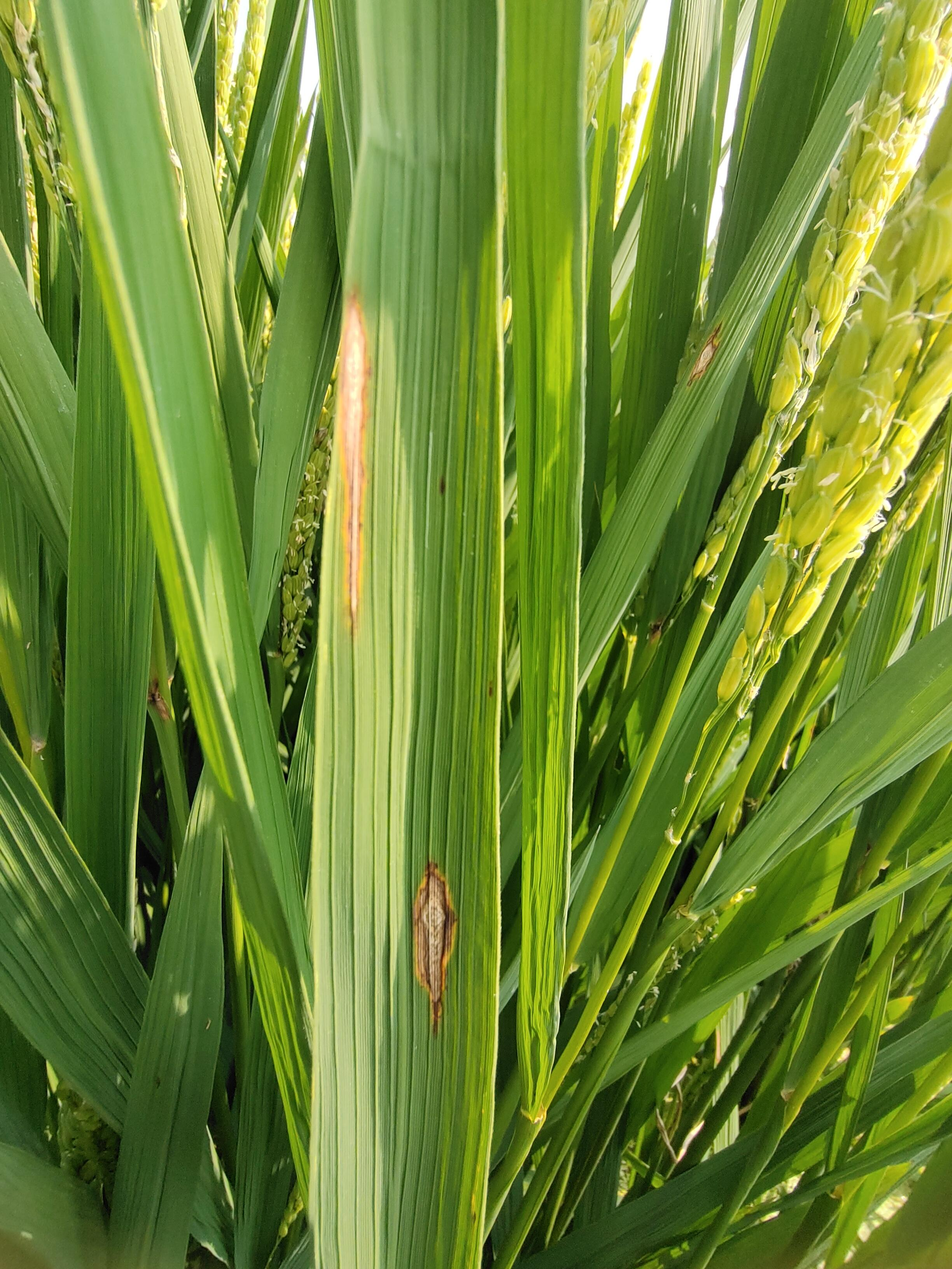LEAF BLAST: (337, 294, 369, 633), (413, 861, 456, 1035)
